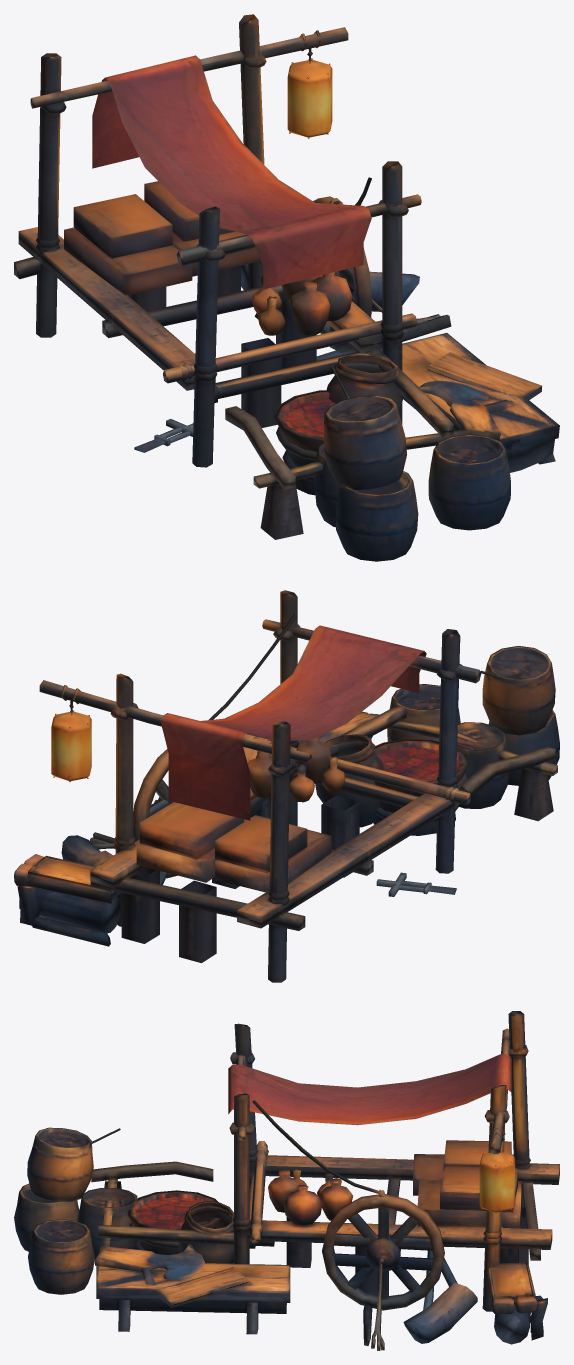
The picture shows the model from 3 angles, top to bottom: view 1: azimuth 30°, elevation 25°; view 2: azimuth 150°, elevation 25°; view 3: azimuth 270°, elevation 25°; orthographic projection. The views are drawn at different scales.
Visible parts, largest first — view 1: tripo_node_ce6a87ce-73b1-4047-bcdd-ef2d992da65c; view 2: tripo_node_ce6a87ce-73b1-4047-bcdd-ef2d992da65c; view 3: tripo_node_ce6a87ce-73b1-4047-bcdd-ef2d992da65c.
Part boxes in pixels (x1=…): tripo_node_ce6a87ce-73b1-4047-bcdd-ef2d992da65c: x1=14, y1=14, x2=559, y2=561; tripo_node_ce6a87ce-73b1-4047-bcdd-ef2d992da65c: x1=14, y1=590, x2=559, y2=982; tripo_node_ce6a87ce-73b1-4047-bcdd-ef2d992da65c: x1=14, y1=1011, x2=559, y2=1350.
Size of the model in its own units: 0.2534 by 0.1919 by 0.4243.
Materials: 1 (1 with a texture image).
